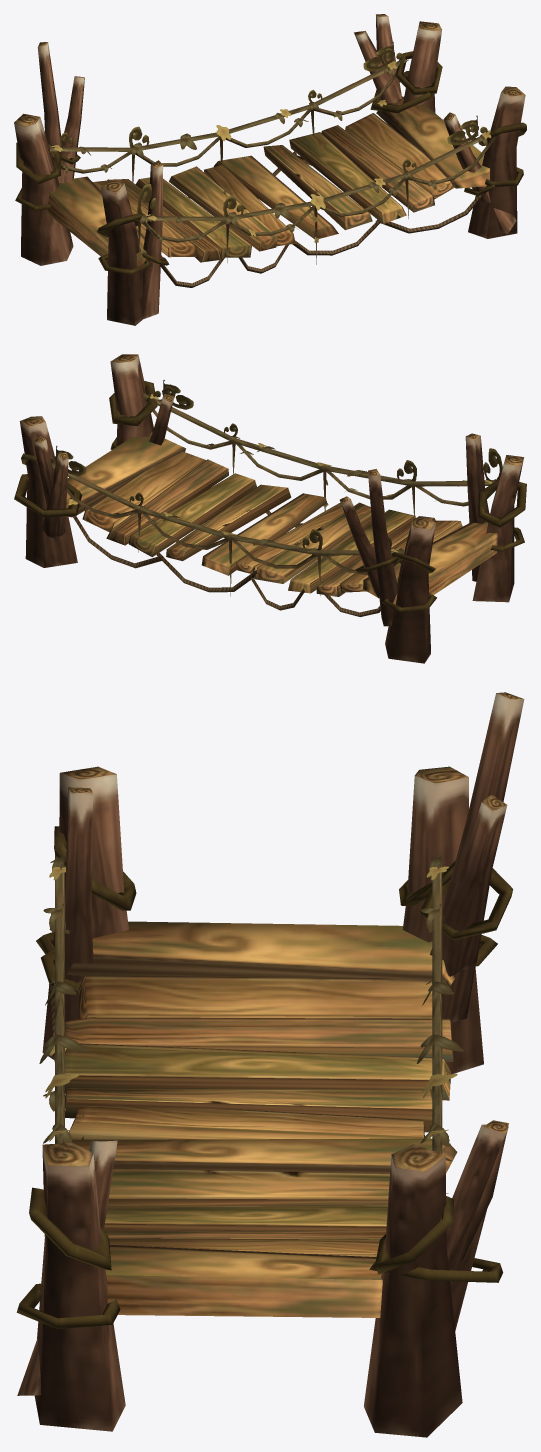
The model's file is sm_bridge_07.FBX.
3 views of the same model, one above another, from view 1: azimuth 30°, elevation 25°; view 2: azimuth 150°, elevation 25°; view 3: azimuth 270°, elevation 25° (orthographic). The views are drawn at different scales.
Visible parts, largest first — view 1: Object06; view 2: Object06; view 3: Object06.
Part boxes in pixels (box(x1,y1,x2,y2)): Object06: box(14, 14, 526, 325); Object06: box(14, 354, 526, 663); Object06: box(16, 692, 524, 1437).
Size of the model in its own units: 2160 by 1120 by 952.
